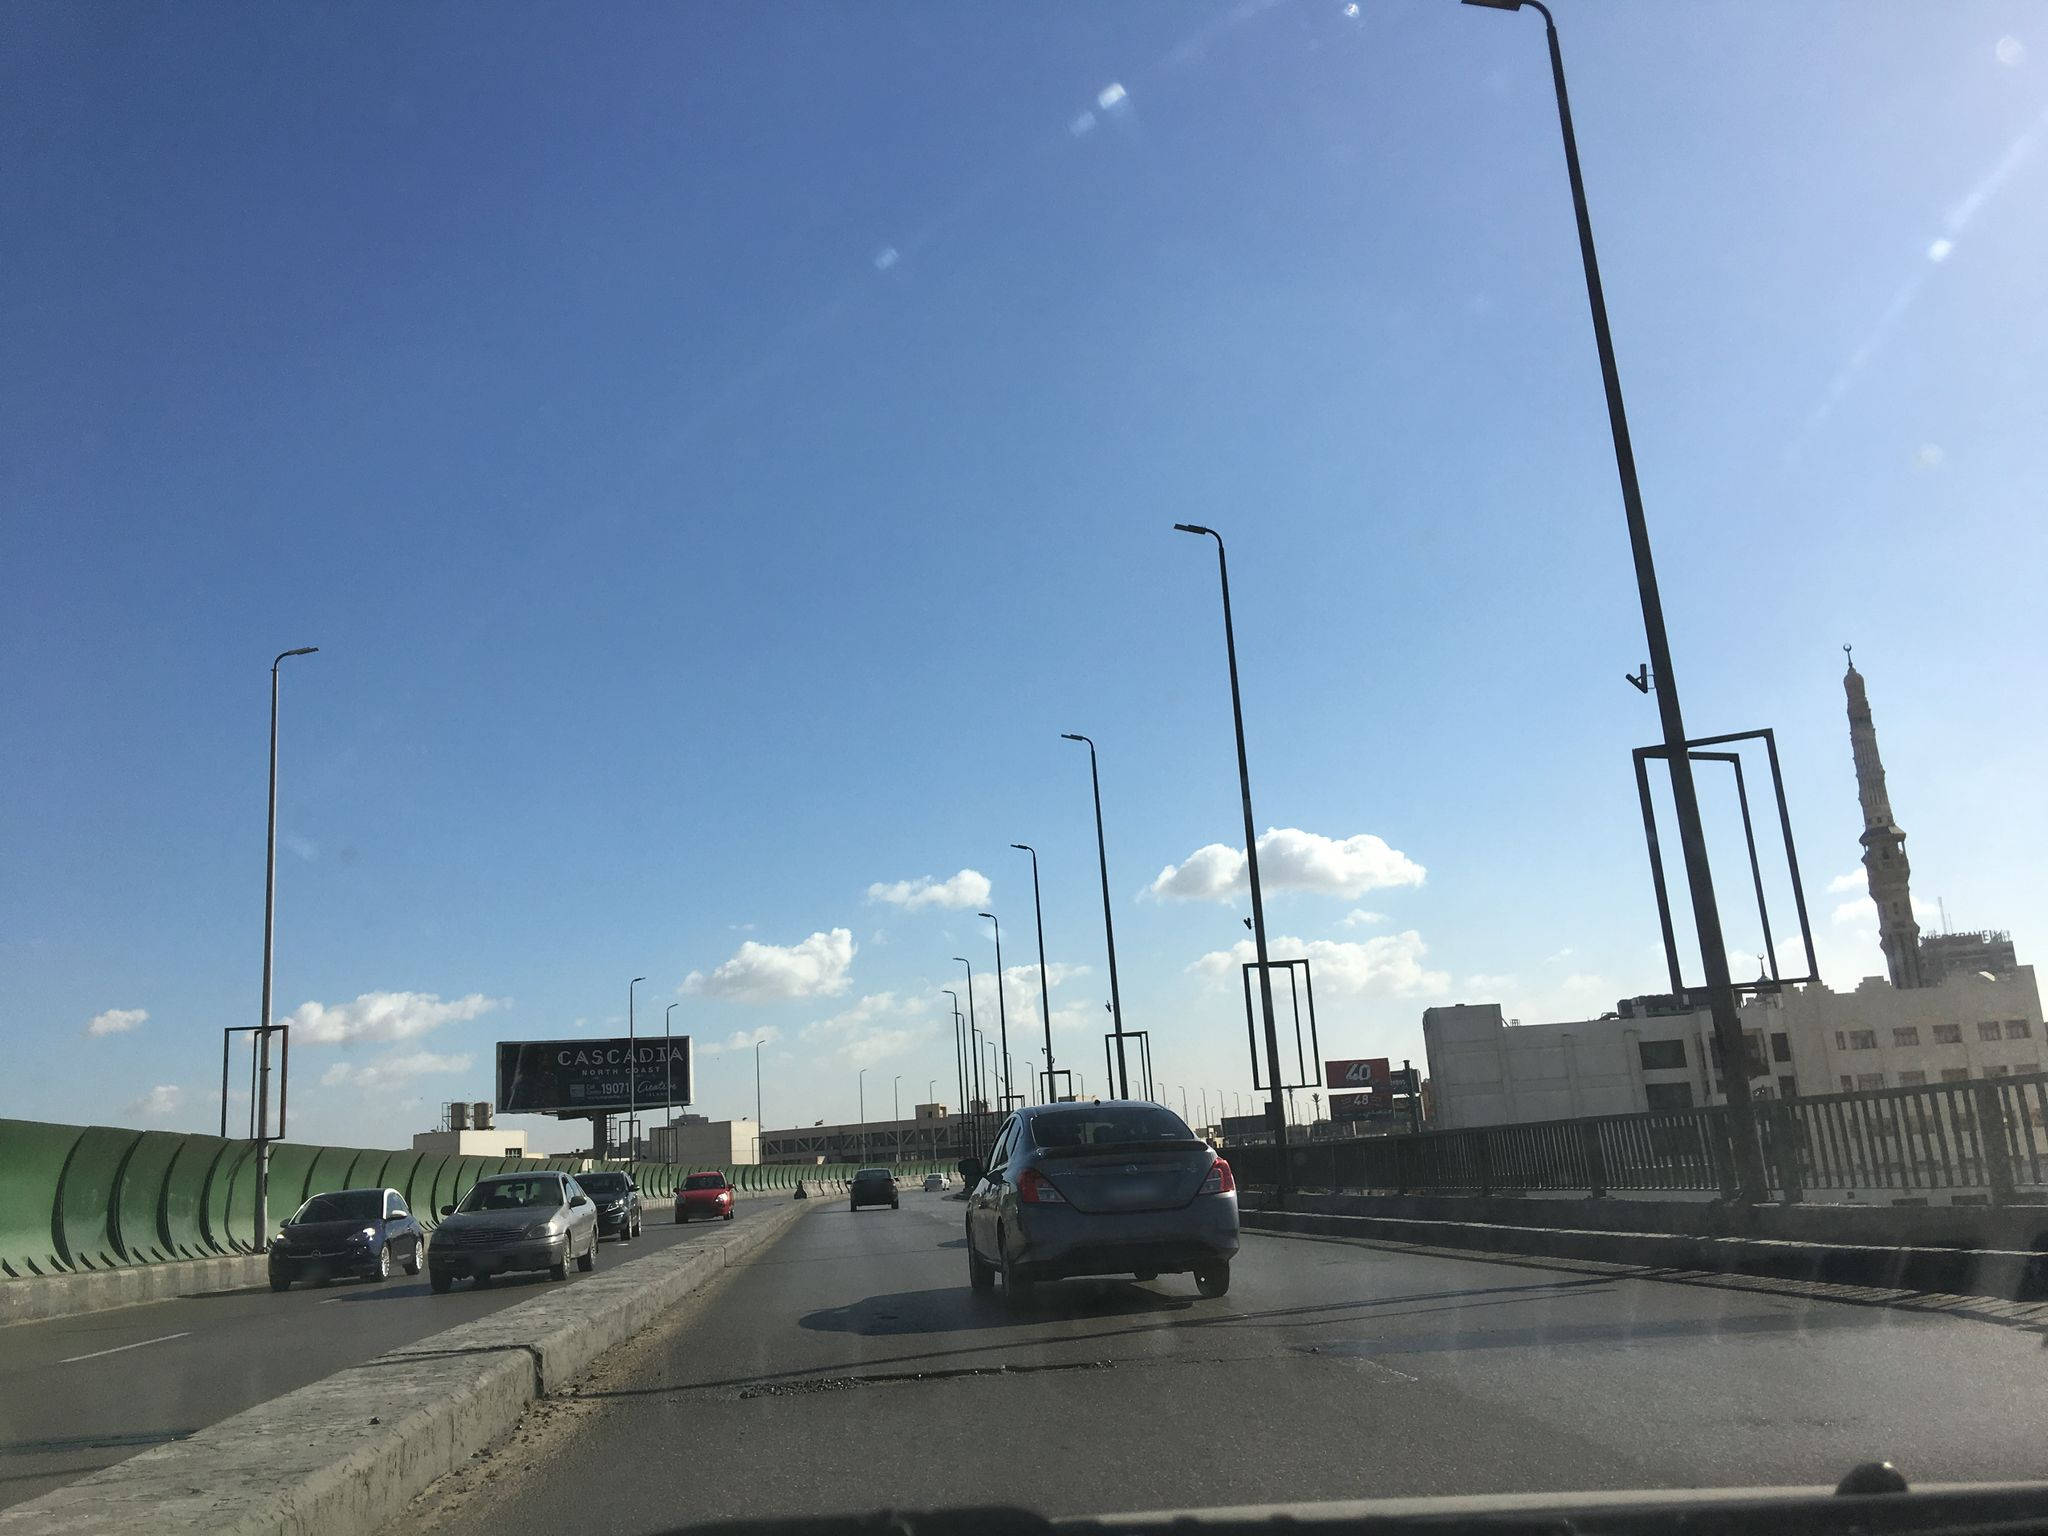car: (956, 1099, 1243, 1310), (426, 1168, 598, 1291), (266, 1187, 426, 1291), (571, 1170, 642, 1242), (672, 1170, 735, 1220), (845, 1167, 900, 1210), (924, 1171, 950, 1191)
